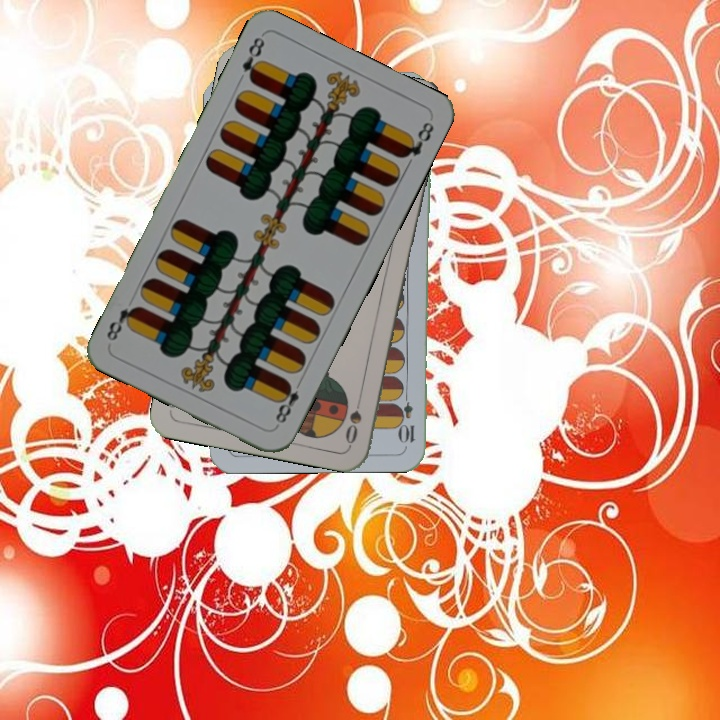E10: (399, 387, 417, 446)
E8: (271, 376, 305, 430), (238, 33, 268, 86)
SO: (341, 388, 366, 446)
